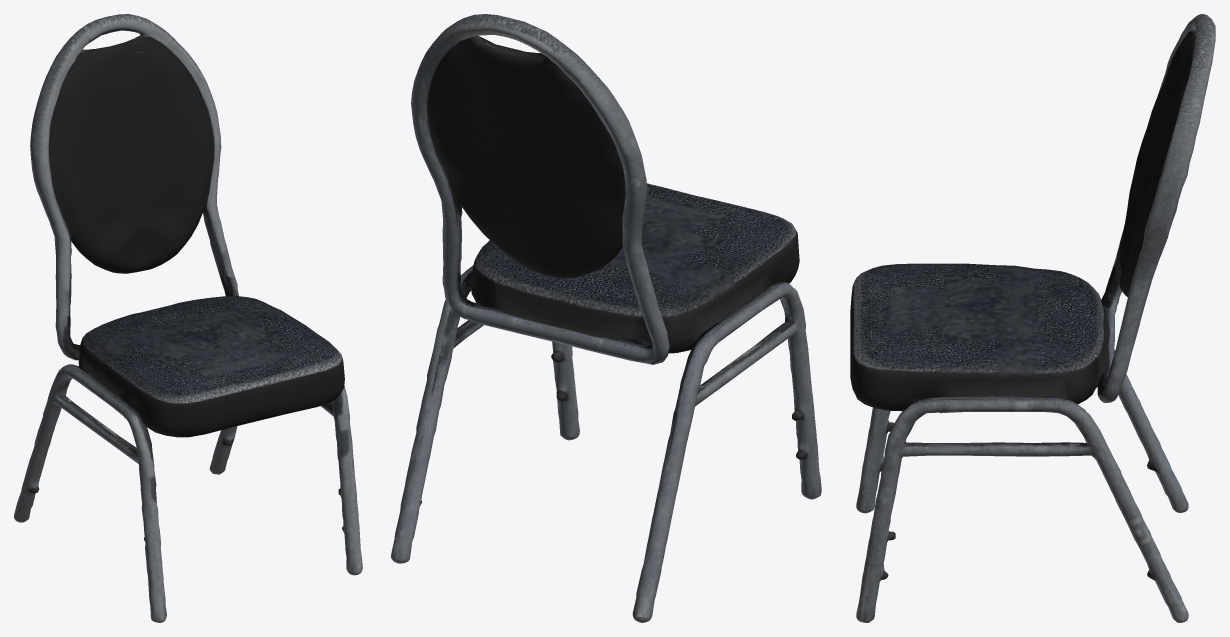
The model's file is Oval_Banquet_Chair_0320032332_texture.glb.
3 renders of one model, left to right at view 1: azimuth 30°, elevation 25°; view 2: azimuth 150°, elevation 25°; view 3: azimuth 270°, elevation 25°, orthographic. The views are drawn at different scales.
Visible parts, largest first — view 1: Mesh_0.006; view 2: Mesh_0.006; view 3: Mesh_0.006.
Boxes of the visible parts, x1,y1,x2,y2 form: Mesh_0.006: [14, 14, 362, 622]; Mesh_0.006: [391, 14, 821, 622]; Mesh_0.006: [850, 14, 1215, 622].
Bounding box in the file's own units: 0.4262 × 0.9144 × 0.5577.
1 material, 1 textured.
